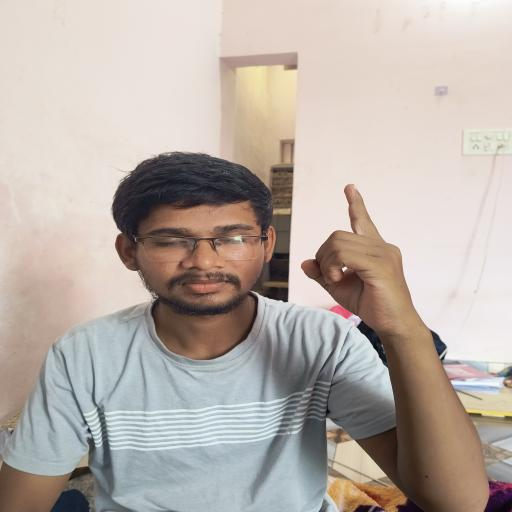What: (278, 170, 465, 375)
